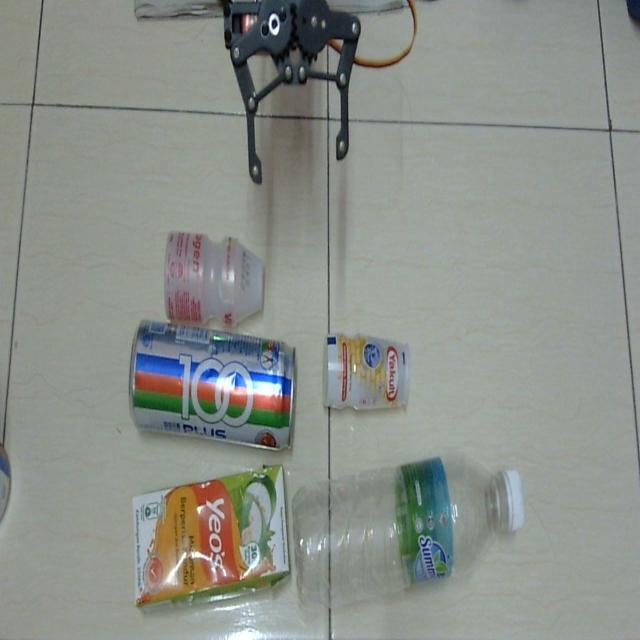metal_laydown_0rotation: (122, 308, 298, 452)
plastic_laydown_0rotation: (290, 449, 527, 606), (126, 458, 292, 616), (161, 223, 271, 327), (321, 328, 411, 417)
